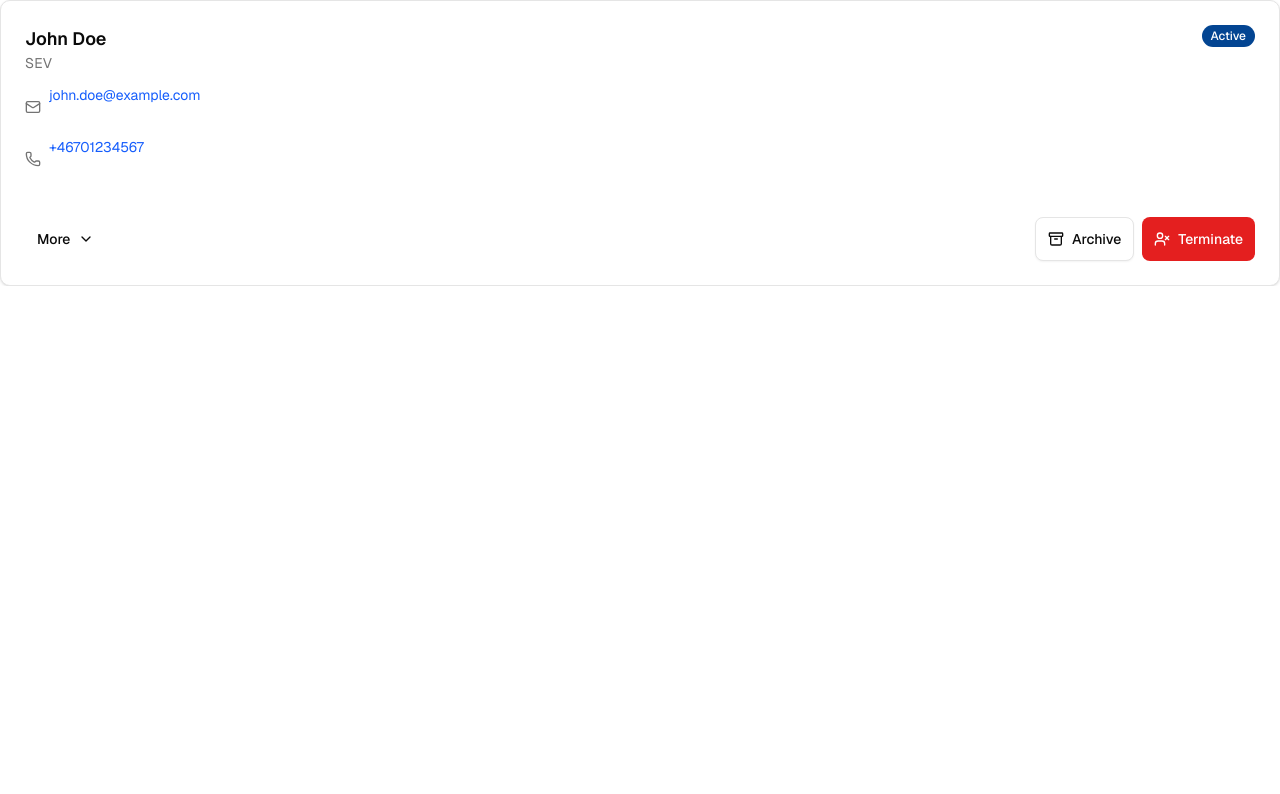
Test: EmployeeCard - Expansion Behavior › AC1: Expansion Behavior Tests › should not cut off or hide fields in expanded state
The width and height of the screenshot is (1280, 794).
What coordinates should you click on to do the following:
click the button with aria-label "Expand details"
I would click on:
 (66, 239)
Its box is [25, 217, 106, 261].
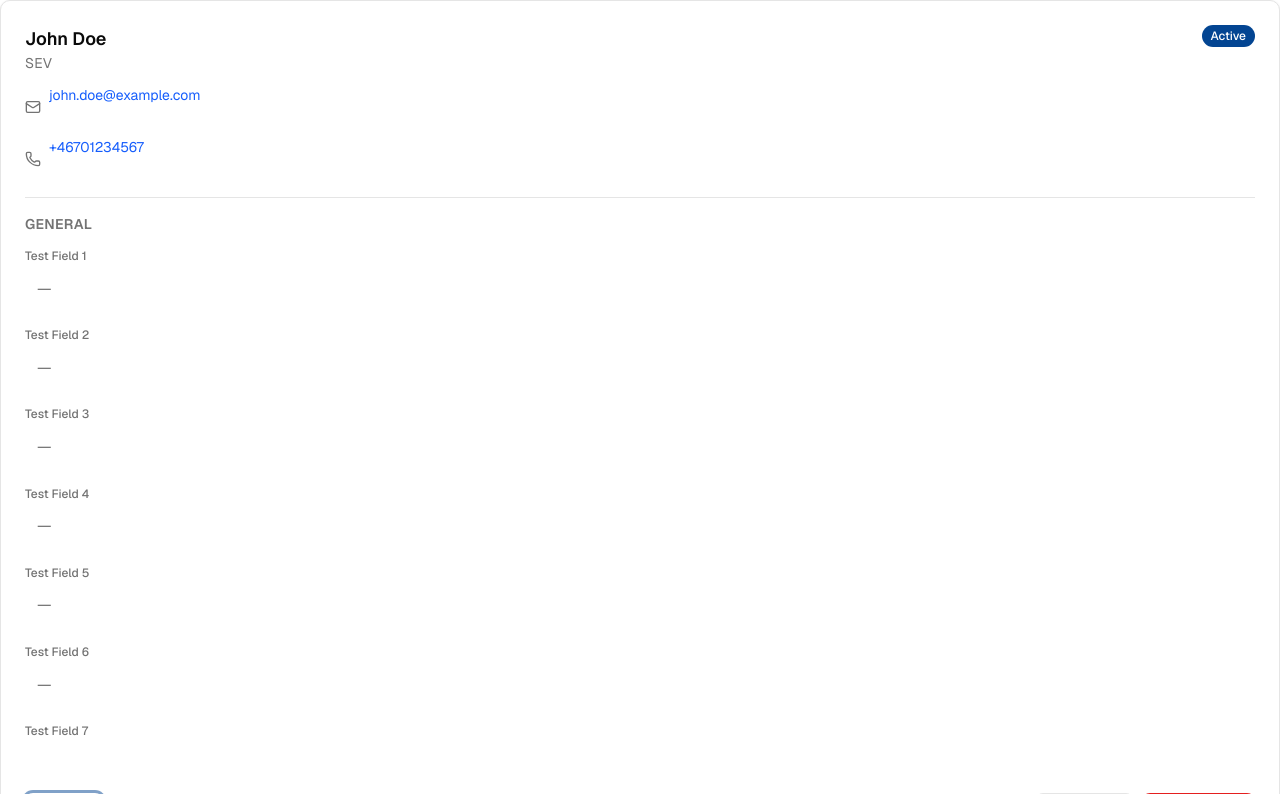
Result: the text "Test Field 1" is shown at [25, 248, 87, 264]
